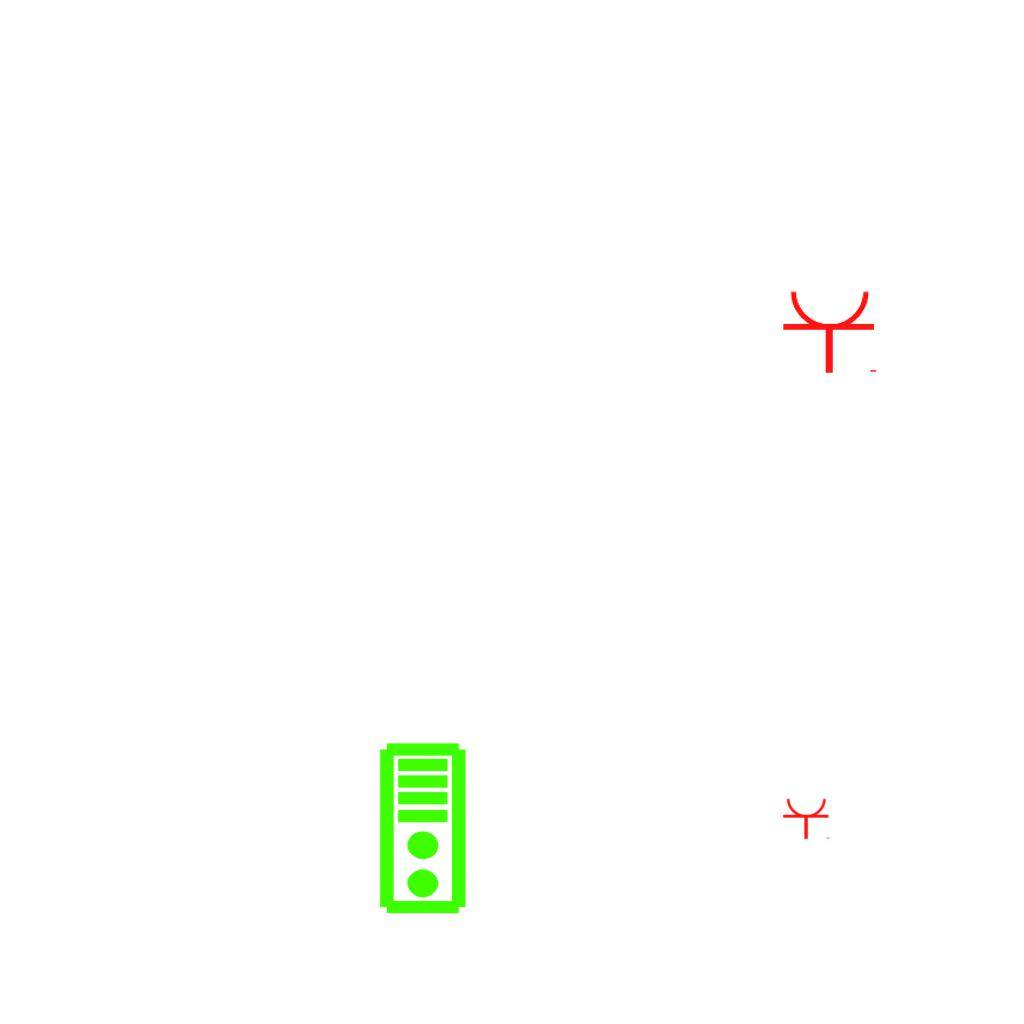Gegensprechanlage_mit_Video: (377, 741, 472, 917)
Schukosteckdose_einfach: (781, 288, 881, 375), (782, 797, 832, 840)
